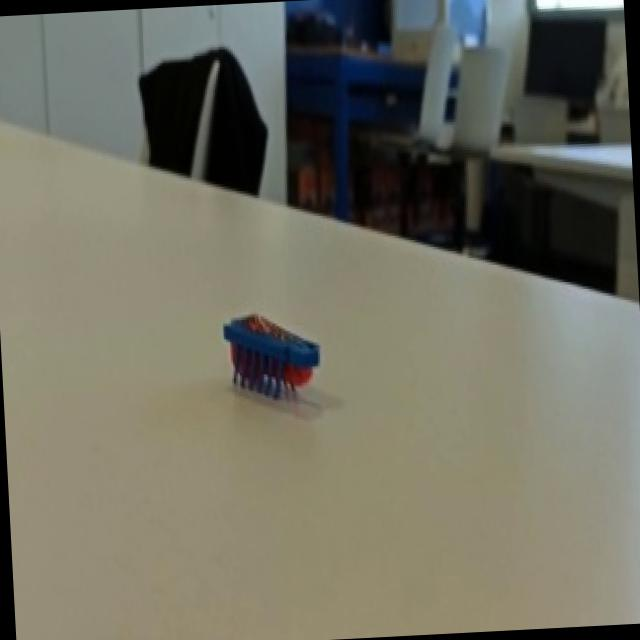1_NanoBug_Azul: (192, 252, 354, 472)
